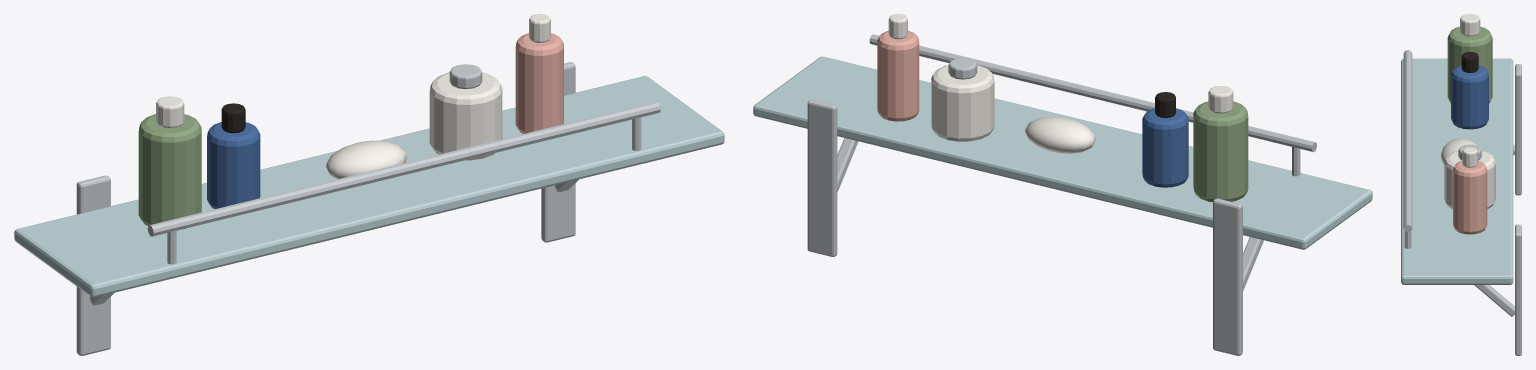
Rendered from hh_cat_bath_shelf.glb.
3 views of the same model, side by side, from view 1: azimuth 30°, elevation 25°; view 2: azimuth 150°, elevation 25°; view 3: azimuth 270°, elevation 25° (orthographic). The views are drawn at different scales.
Parts seen in each view (by area): view 1: shelf, rail, bottle, bottle.002, bottle.003, bottle.001, wall_plate, wall_plate.001, soap_bar, cap, cap.002, cap.001 (+1 smaller); view 2: shelf, bottle, wall_plate.001, wall_plate, bottle.002, bottle.003, bottle.001, rail, soap_bar, cap, bracket.001, bracket (+2 smaller); view 3: shelf, bottle.003, bottle.001, rail, bottle, bottle.002, wall_plate, wall_plate.001, bracket.001, cap, cap.001, soap_bar (+3 smaller).
Boxes of the visible parts, left/top/right/bottom form: shelf: left=14, top=76, right=724, bottom=297; rail: left=147, top=101, right=660, bottom=236; bottle: left=138, top=114, right=201, bottom=229; bottle.002: left=429, top=72, right=502, bottom=160; bottle.003: left=515, top=33, right=563, bottom=133; bottle.001: left=207, top=122, right=260, bottom=208; wall_plate: left=76, top=175, right=110, bottom=355; wall_plate.001: left=541, top=62, right=575, bottom=242; soap_bar: left=325, top=140, right=406, bottom=179; cap: left=156, top=96, right=184, bottom=127; cap.002: left=449, top=64, right=482, bottom=88; cap.001: left=221, top=103, right=245, bottom=133; shelf: left=753, top=56, right=1372, bottom=249; bottle: left=1193, top=101, right=1248, bottom=202; wall_plate.001: left=807, top=99, right=837, bottom=256; wall_plate: left=1213, top=198, right=1242, bottom=355; bottle.002: left=931, top=65, right=994, bottom=141; bottle.003: left=877, top=30, right=919, bottom=121; bottle.001: left=1142, top=108, right=1188, bottom=187; rail: left=869, top=34, right=1316, bottom=152; soap_bar: left=1025, top=116, right=1095, bottom=153; cap: left=1208, top=86, right=1233, bottom=113; bracket.001: left=837, top=138, right=858, bottom=192; bracket: left=1243, top=237, right=1263, bottom=290; shelf: left=1401, top=58, right=1513, bottom=284; bottle.003: left=1453, top=161, right=1487, bottom=234; bottle.001: left=1451, top=65, right=1488, bottom=129; rail: left=1403, top=50, right=1412, bottom=232; bottle: left=1447, top=26, right=1492, bottom=103; bottle.002: left=1444, top=150, right=1495, bottom=209; wall_plate: left=1515, top=64, right=1521, bottom=195; wall_plate.001: left=1515, top=224, right=1521, bottom=355; bracket.001: left=1474, top=285, right=1514, bottom=316; cap: left=1460, top=14, right=1480, bottom=36; cap.001: left=1461, top=52, right=1478, bottom=72; soap_bar: left=1441, top=138, right=1477, bottom=164.
Size of the model in its own units: 0.6 by 0.24 by 0.14.
